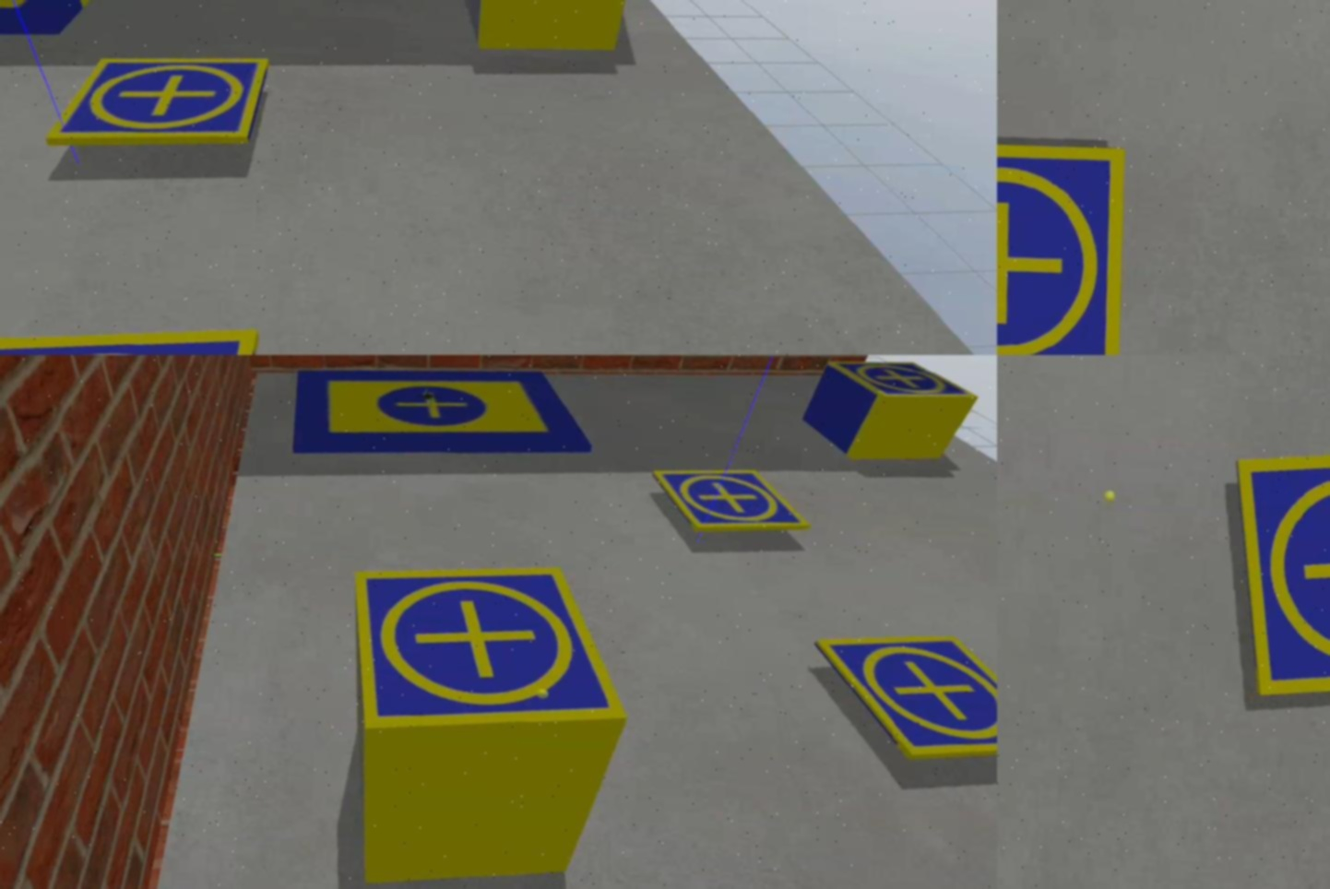large_base: (292, 360, 604, 465), (1, 1, 139, 42)
small_base: (346, 558, 635, 742), (997, 137, 1132, 356), (1222, 441, 1330, 712), (809, 631, 997, 765), (50, 41, 269, 152), (652, 465, 810, 539), (824, 356, 980, 409)
